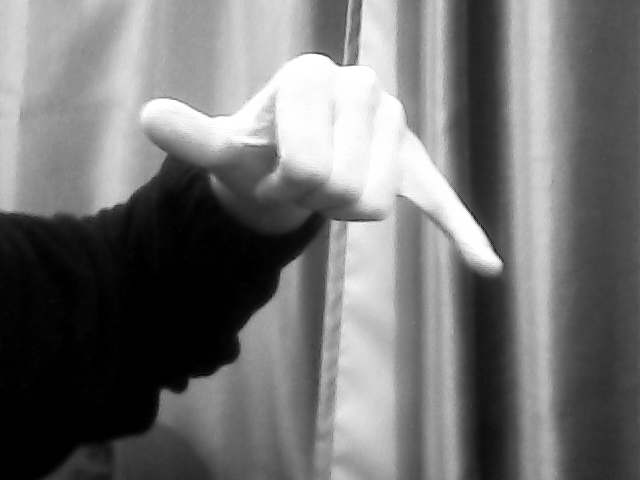aloha: (128, 49, 531, 286)
